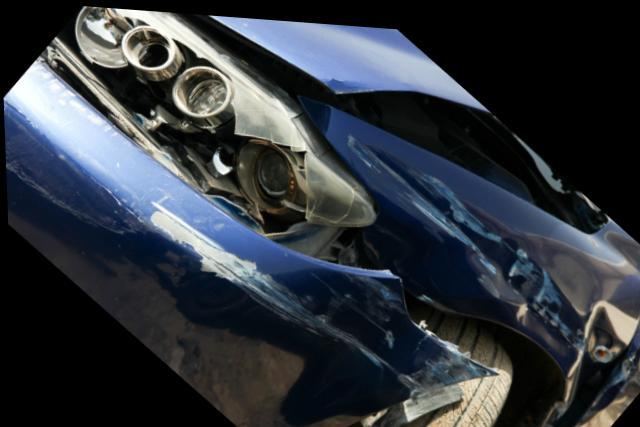dent: (346, 131, 601, 356)
dislocated part: (183, 11, 603, 227)
lamp broken: (37, 5, 376, 240)
scratch: (143, 202, 485, 392), (3, 94, 151, 234)
